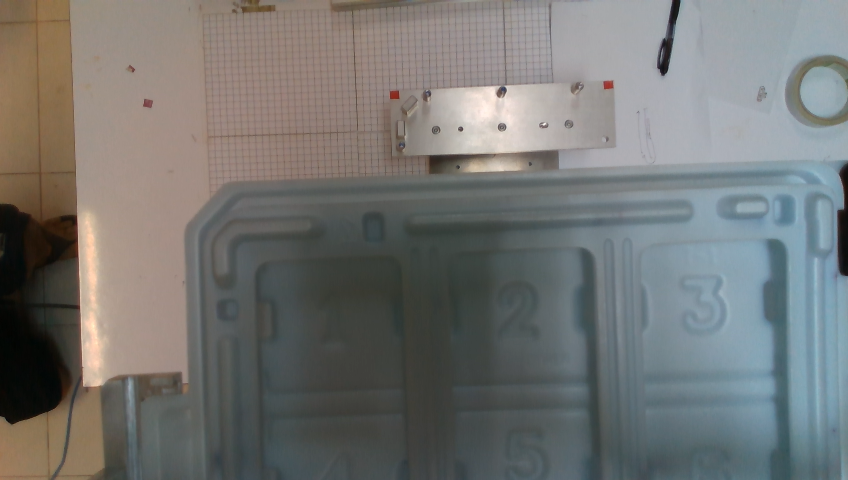red: (603, 81, 613, 89), (390, 91, 399, 99)
